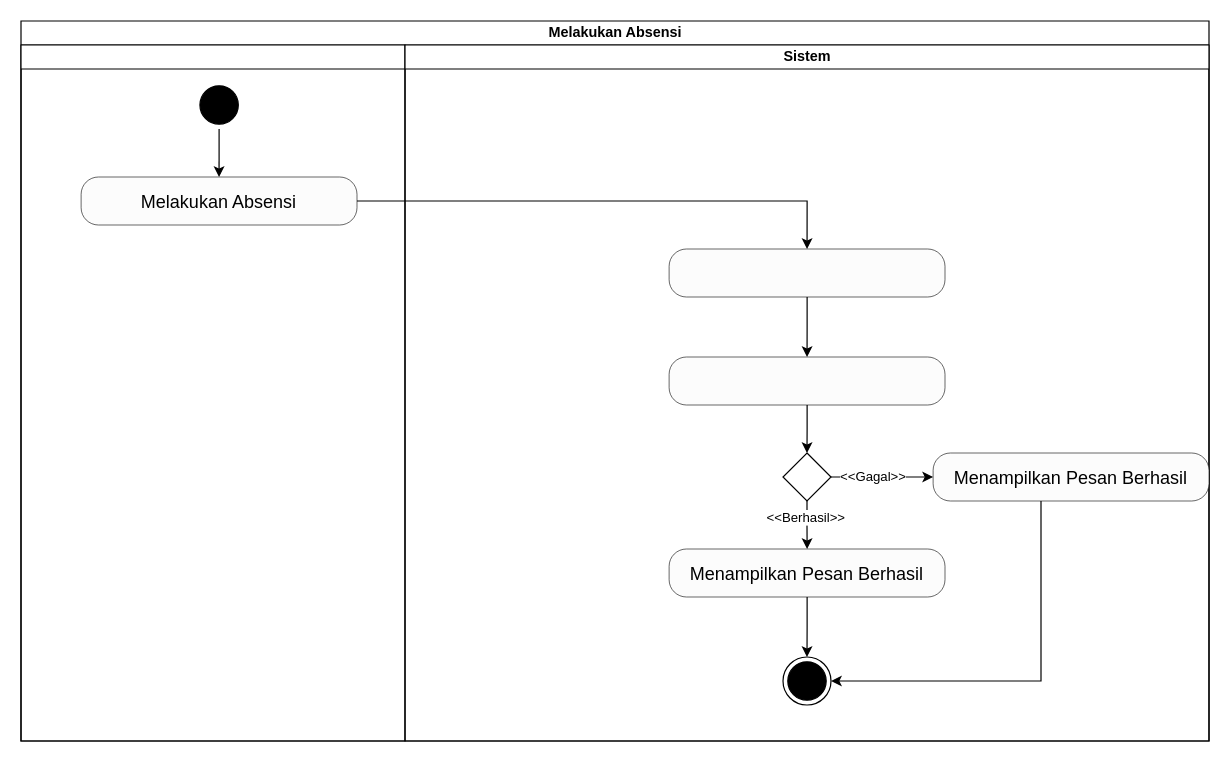
Some shapes in this 1230 by 762 pixel diagram are drawn without their labels. Here are the shapes that lost their labels. From the top down, the box of each, then its label:
(668, 248, 945, 297): Memeriksa Absensi
(20, 44, 405, 741): Mahasiswa
(668, 356, 945, 405): Memeriksa Database
